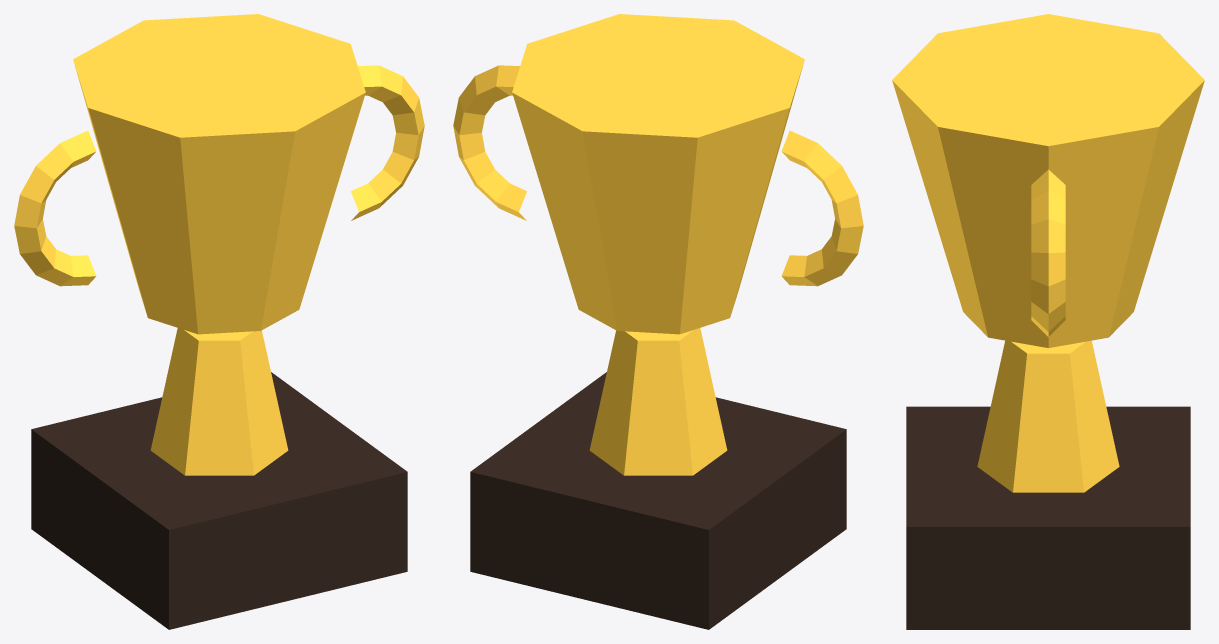
File: trophy.glb
3 renders of one model, left to right at view 1: azimuth 30°, elevation 25°; view 2: azimuth 150°, elevation 25°; view 3: azimuth 270°, elevation 25°, orthographic. The views are drawn at different scales.
Parts seen in each view (by area): view 1: cup_gold, base_trophy_base; view 2: cup_gold, base_trophy_base; view 3: cup_gold, base_trophy_base.
Part boxes in pixels (x1=…): cup_gold: x1=14, y1=14, x2=424, y2=475; base_trophy_base: x1=31, y1=372, x2=407, y2=629; cup_gold: x1=453, y1=14, x2=863, y2=475; base_trophy_base: x1=470, y1=372, x2=846, y2=629; cup_gold: x1=892, y1=14, x2=1204, y2=492; base_trophy_base: x1=906, y1=406, x2=1190, y2=629.
Size of the model in its own units: 0.172 by 0.19 by 0.11.
